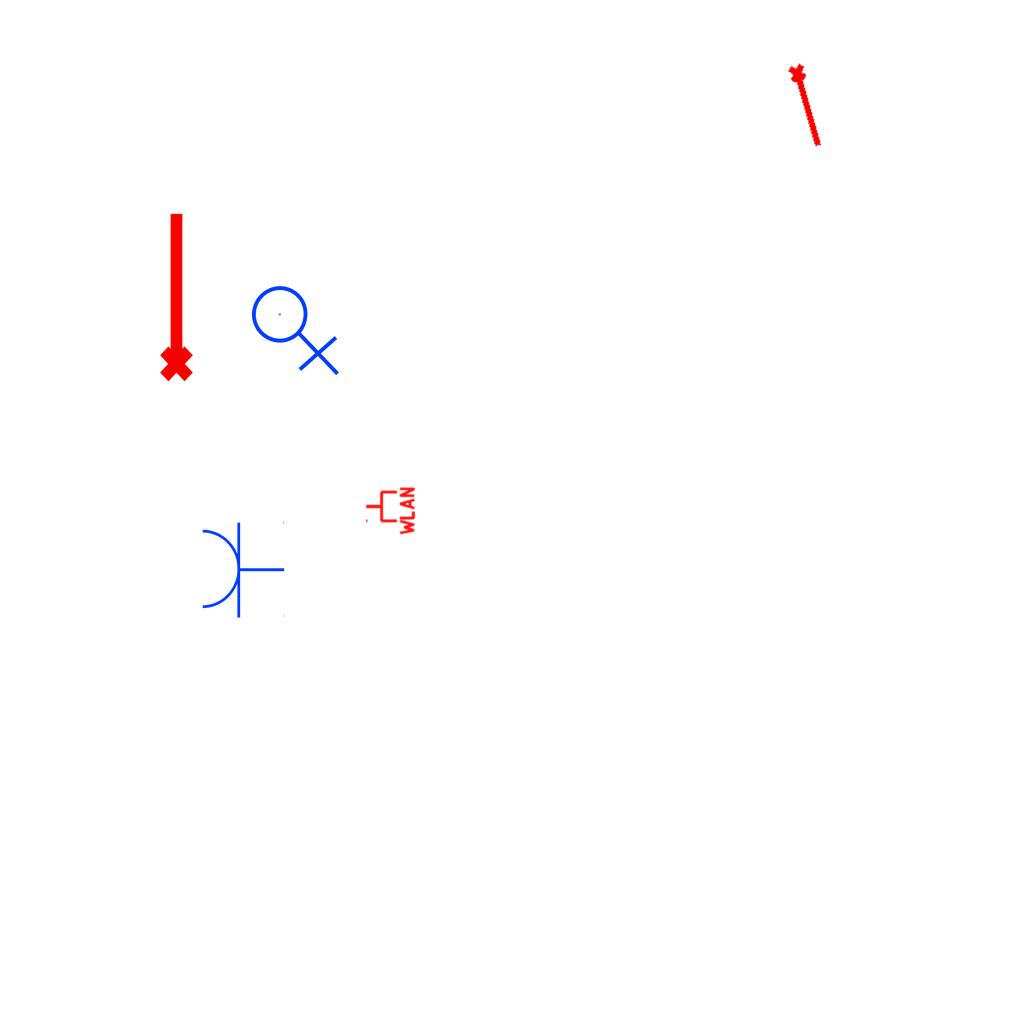ASR_Ansaugoeffnung: (151, 208, 197, 384), (784, 60, 832, 151)
Elektroanschluss_allgemein_230V_Geraeteanschlussdose_230V: (250, 277, 344, 376)
Schukosteckdose_einfach: (198, 519, 285, 619)
WLAN: (364, 485, 416, 537)
